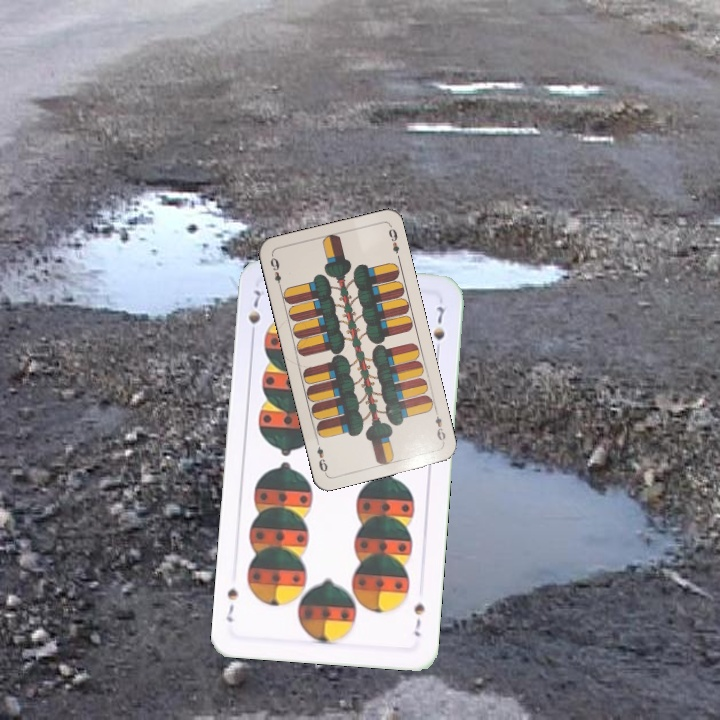E9: (266, 252, 284, 292), (431, 406, 448, 446)
S7: (244, 286, 264, 342), (410, 599, 427, 639)
